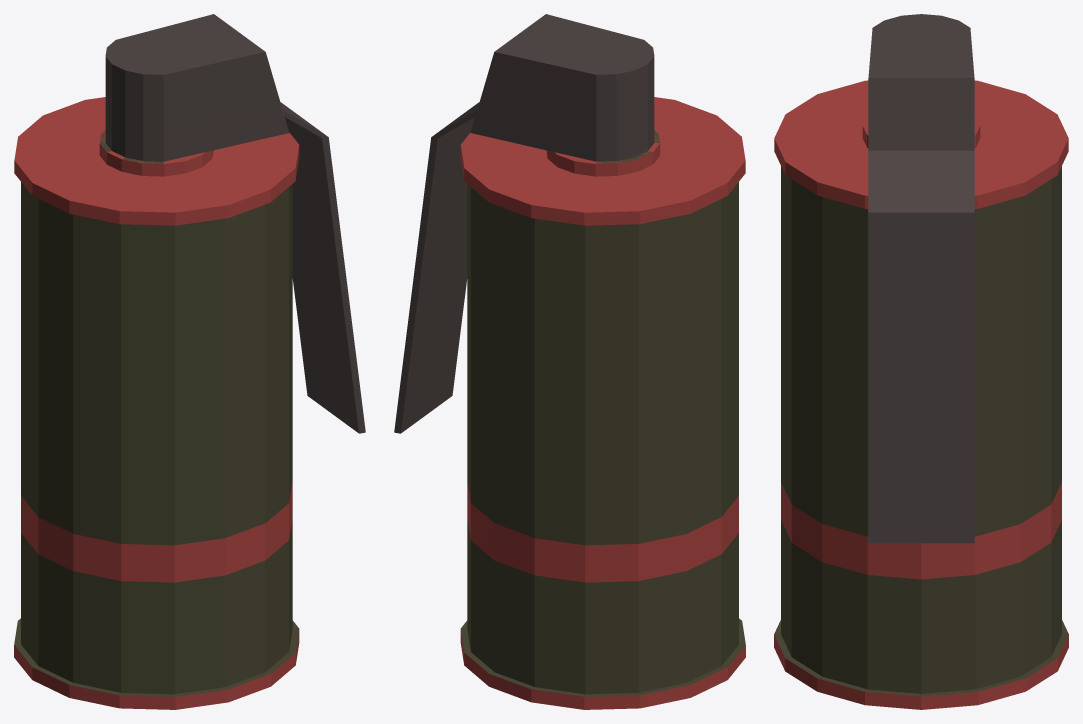
File: smoke1.fbx
The picture shows the model from 3 angles, left to right: view 1: azimuth 30°, elevation 25°; view 2: azimuth 150°, elevation 25°; view 3: azimuth 270°, elevation 25°; orthographic projection. The views are drawn at different scales.
Parts seen in each view (by area): view 1: Cylinder; view 2: Cylinder; view 3: Cylinder.
Part boxes in pixels (left/top/right/bottom): Cylinder: left=14, top=14, right=365, bottom=709; Cylinder: left=394, top=14, right=745, bottom=709; Cylinder: left=774, top=14, right=1068, bottom=709.
Bounding box in the file's own units: 12.97 × 24.02 × 10.5.
